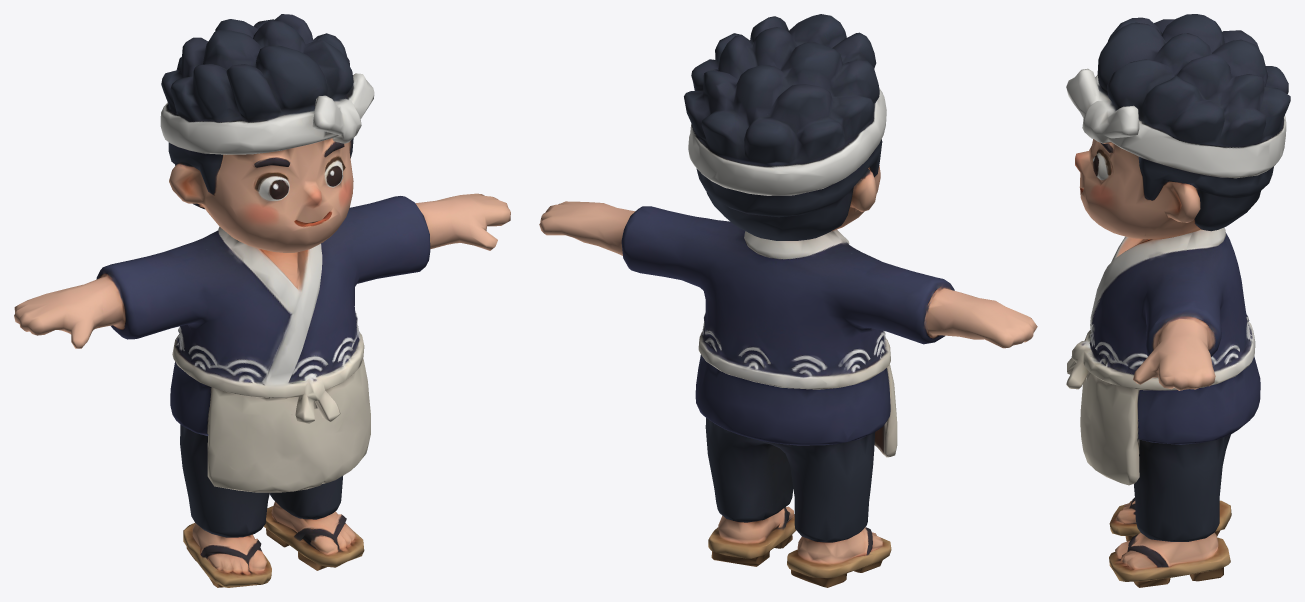
The model's file is s2_staff_cashier_base.fbx.
The picture shows the model from 3 angles, left to right: view 1: azimuth 30°, elevation 25°; view 2: azimuth 150°, elevation 25°; view 3: azimuth 270°, elevation 25°; orthographic projection.
Parts seen in each view (by area): view 1: tripo_node_b63f919f-6a84-4b30-9ab4-d0f8d29abbae; view 2: tripo_node_b63f919f-6a84-4b30-9ab4-d0f8d29abbae; view 3: tripo_node_b63f919f-6a84-4b30-9ab4-d0f8d29abbae.
Part boxes in pixels (left/top/right/bottom): tripo_node_b63f919f-6a84-4b30-9ab4-d0f8d29abbae: left=14, top=14, right=510, bottom=587; tripo_node_b63f919f-6a84-4b30-9ab4-d0f8d29abbae: left=539, top=14, right=1037, bottom=587; tripo_node_b63f919f-6a84-4b30-9ab4-d0f8d29abbae: left=1066, top=14, right=1290, bottom=587.
Bounding box in the file's own units: 95.61 × 100 × 38.49.
1 material, 1 textured.
